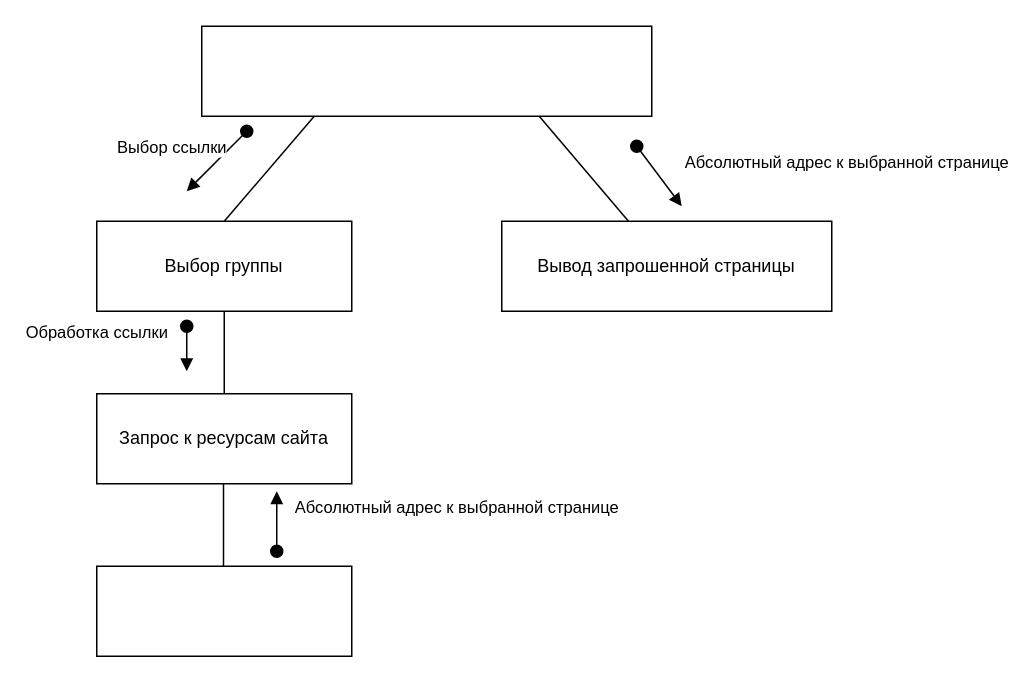
Image size: 1035x683. Some labels were removed from this diagram. The box of each missing label's shape, as (x1, y1, x2, y2) in pixels:
Возврат результата: (95, 565, 352, 656)
Расписание ПТКСахГУ: (200, 25, 652, 116)
